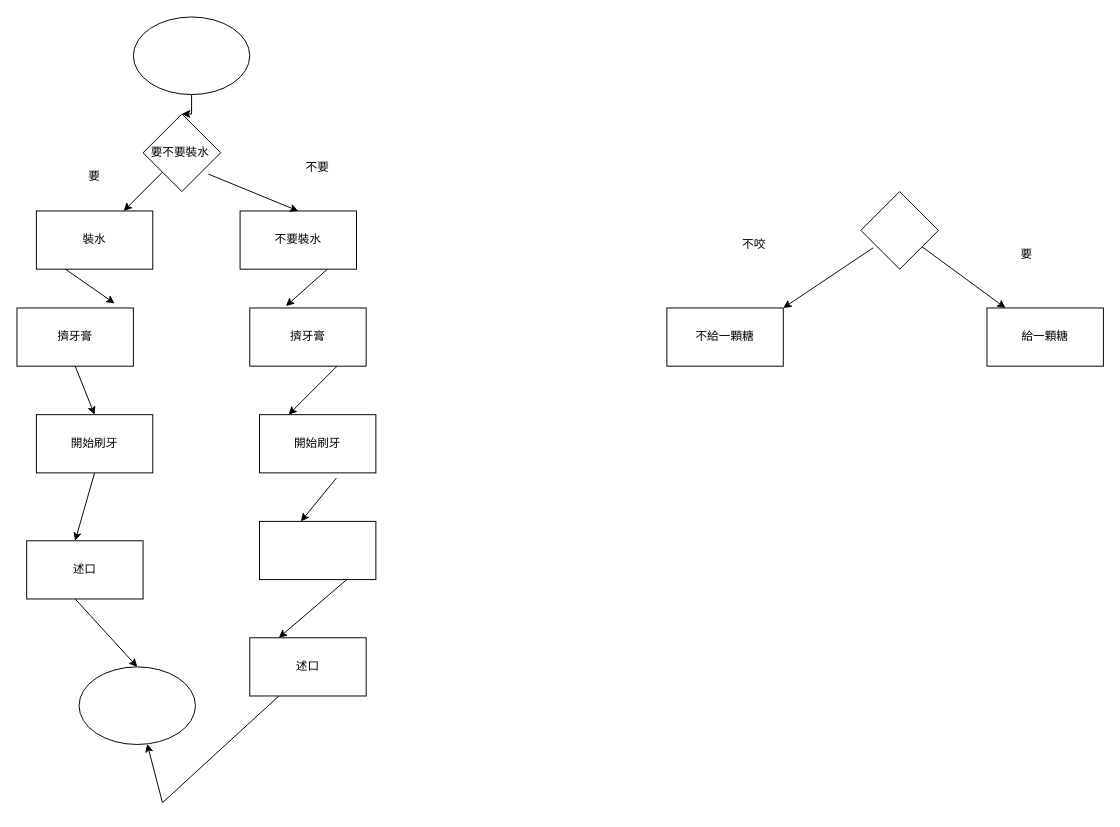
Image size: 1120x827. Some labels were removed from this diagram. Each missing label, with the box of its shape:
用手埲水: (259, 520, 376, 580)
結束: (78, 666, 195, 744)
要不要吃糖果: (860, 191, 938, 269)
開始: (132, 16, 250, 95)
